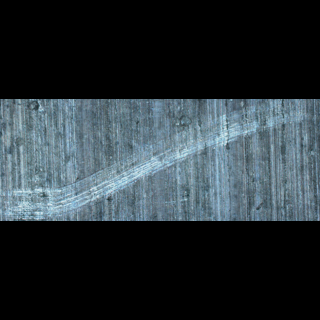d: (0, 185, 94, 221), (221, 105, 304, 140), (150, 128, 233, 161), (84, 159, 151, 192)
